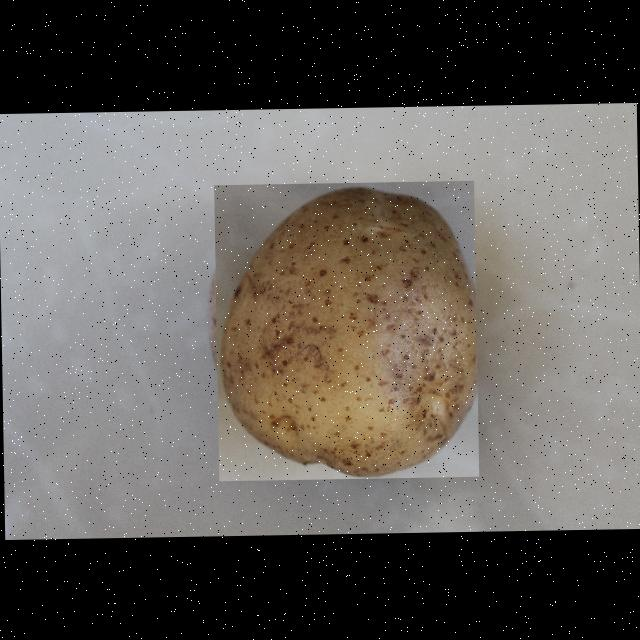Diseased-fungal potato: (212, 180, 478, 480)
